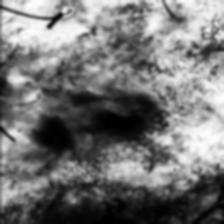Potentially Malignant Skin Tumors: (25, 75, 189, 169)
